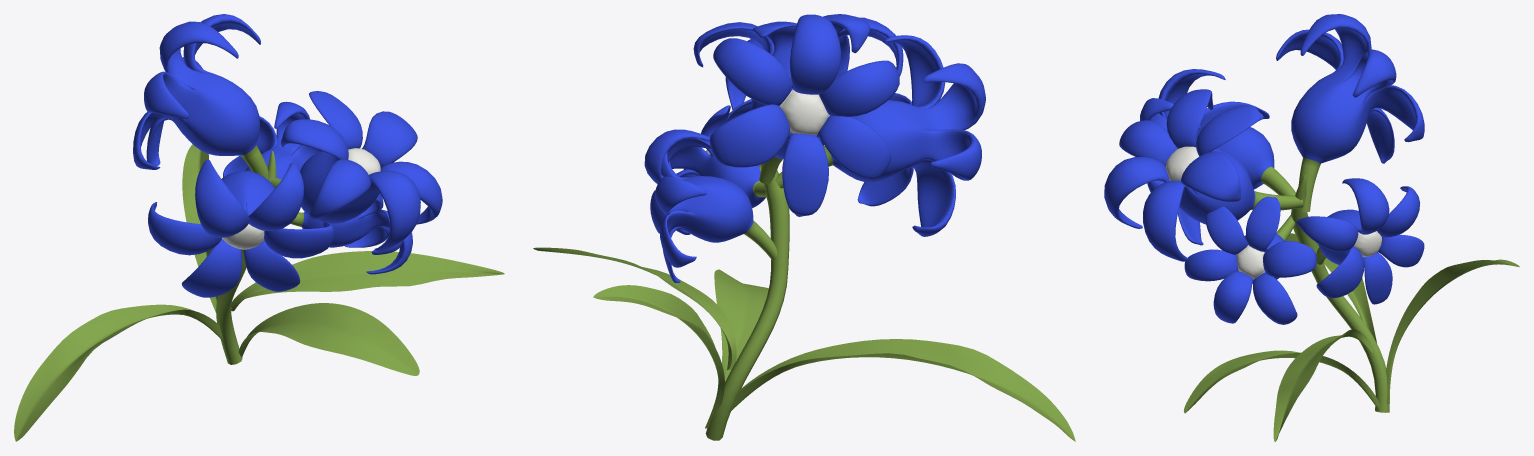
The model's file is object_EN-plants-bluebell_5.glb.
3 views of the same model, side by side, from view 1: azimuth 30°, elevation 25°; view 2: azimuth 150°, elevation 25°; view 3: azimuth 270°, elevation 25° (orthographic). The views are drawn at different scales.
Parts seen in each view (by area): view 1: GEO-plants-bluebell-petals.028, GEO-plants-bluebell-petals.029, GEO-plants-bluebell-petals.025, GEO-leaf.bluebell.022, GEO-leaf.bluebell.024, GEO-leaf.bluebell.021, GEO-plants-bluebell-petals.030, GEO-plants-bluebell-petals.026, GEO-plants-bluebell-stem.4, GEO-leaf.bluebell.020; view 2: GEO-plants-bluebell-petals.025, GEO-plants-bluebell-petals.028, GEO-plants-bluebell-petals.026, GEO-leaf.bluebell.021, GEO-plants-bluebell-stem.4, GEO-plants-bluebell-petals.029, GEO-plants-bluebell-petals.030, GEO-leaf.bluebell.022, GEO-leaf.bluebell.020, GEO-leaf.bluebell.024; view 3: GEO-plants-bluebell-petals.029, GEO-plants-bluebell-petals.025, GEO-plants-bluebell-petals.030, GEO-plants-bluebell-petals.026, GEO-plants-bluebell-petals.028, GEO-plants-bluebell-stem.4, GEO-leaf.bluebell.024, GEO-leaf.bluebell.020, GEO-leaf.bluebell.022, GEO-leaf.bluebell.021.
Boxes of the visible parts, box(x1,y1,x2,y2) form: GEO-plants-bluebell-petals.028: box(148, 159, 334, 297); GEO-plants-bluebell-petals.029: box(270, 91, 442, 251); GEO-plants-bluebell-petals.025: box(133, 14, 268, 179); GEO-leaf.bluebell.022: box(238, 303, 419, 375); GEO-leaf.bluebell.024: box(231, 251, 504, 311); GEO-leaf.bluebell.021: box(14, 304, 223, 441); GEO-plants-bluebell-petals.030: box(290, 193, 412, 274); GEO-plants-bluebell-petals.026: box(223, 101, 322, 179); GEO-plants-bluebell-stem.4: box(216, 151, 276, 364); GEO-leaf.bluebell.020: box(182, 144, 217, 312); GEO-plants-bluebell-petals.025: box(709, 14, 899, 216); GEO-plants-bluebell-petals.028: box(775, 35, 985, 236); GEO-plants-bluebell-petals.026: box(644, 129, 777, 282); GEO-leaf.bluebell.021: box(730, 339, 1075, 441); GEO-plants-bluebell-stem.4: box(705, 164, 789, 440); GEO-plants-bluebell-petals.029: box(693, 14, 903, 170); GEO-plants-bluebell-petals.030: box(668, 99, 766, 234); GEO-leaf.bluebell.022: box(714, 269, 768, 381); GEO-leaf.bluebell.020: box(593, 285, 724, 428); GEO-leaf.bluebell.024: box(533, 247, 736, 370); GEO-plants-bluebell-petals.029: box(1104, 89, 1303, 261); GEO-plants-bluebell-petals.025: box(1276, 14, 1424, 212); GEO-plants-bluebell-petals.030: box(1184, 196, 1316, 324); GEO-plants-bluebell-petals.026: box(1296, 178, 1424, 304); GEO-plants-bluebell-petals.028: box(1140, 69, 1295, 245); GEO-plants-bluebell-stem.4: box(1291, 175, 1389, 412); GEO-leaf.bluebell.024: box(1273, 329, 1372, 441); GEO-leaf.bluebell.020: box(1386, 259, 1519, 405); GEO-leaf.bluebell.022: box(1184, 350, 1379, 413); GEO-leaf.bluebell.021: box(1286, 233, 1376, 342).
Bounding box in the file's own units: 0.2248 × 0.164 × 0.1687.
